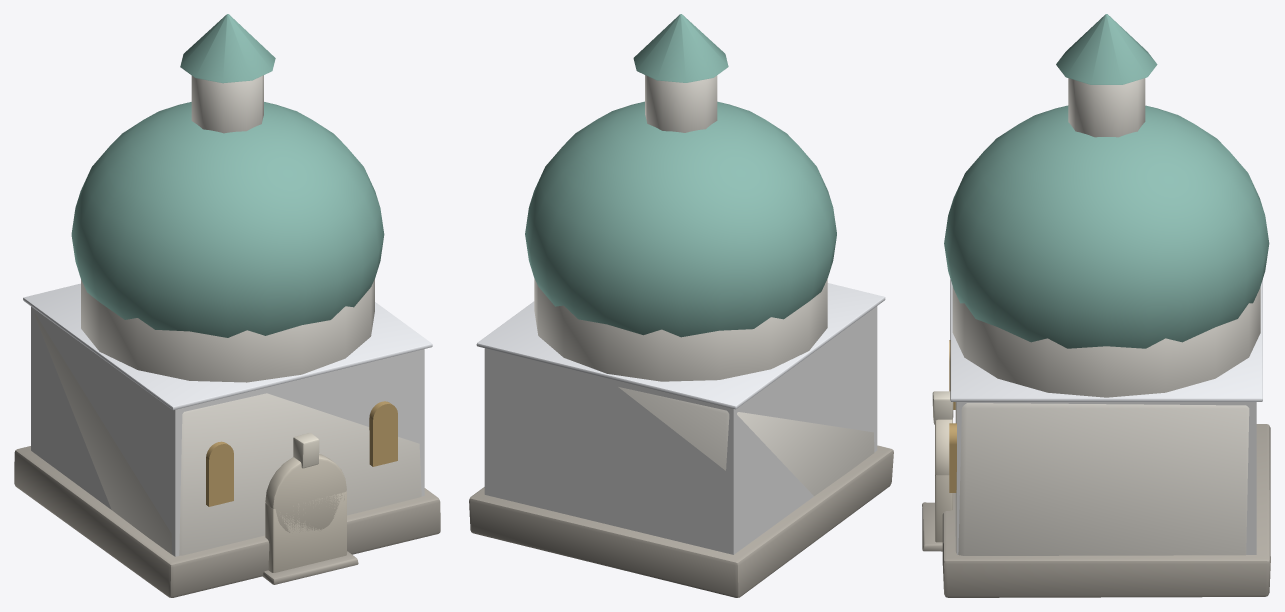
Rendered from st_adalbert.glb.
The picture shows the model from 3 angles, left to right: view 1: azimuth 30°, elevation 25°; view 2: azimuth 150°, elevation 25°; view 3: azimuth 270°, elevation 25°; orthographic projection. The views are drawn at different scales.
Parts seen in each view (by area): view 1: st_adalbert, st_adalbert-col; view 2: st_adalbert, st_adalbert-col; view 3: st_adalbert, st_adalbert-col.
Boxes of the visible parts, box(x1,y1,x2,y2) form: st_adalbert: box(14, 14, 440, 597); st_adalbert-col: box(31, 306, 424, 556); st_adalbert: box(469, 14, 893, 597); st_adalbert-col: box(484, 306, 877, 554); st_adalbert: box(922, 14, 1270, 597); st_adalbert-col: box(957, 402, 1256, 554).
Size of the model in its own units: 7.66 by 13.3 by 8.15.
